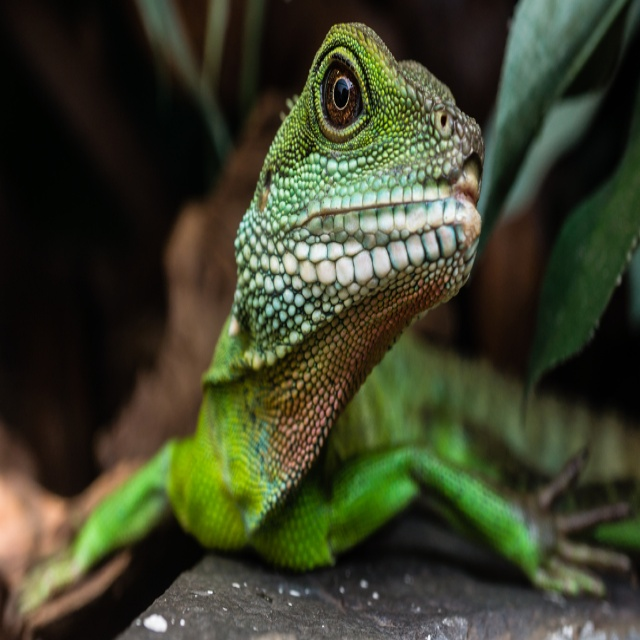Lizard: (0, 21, 633, 639)
